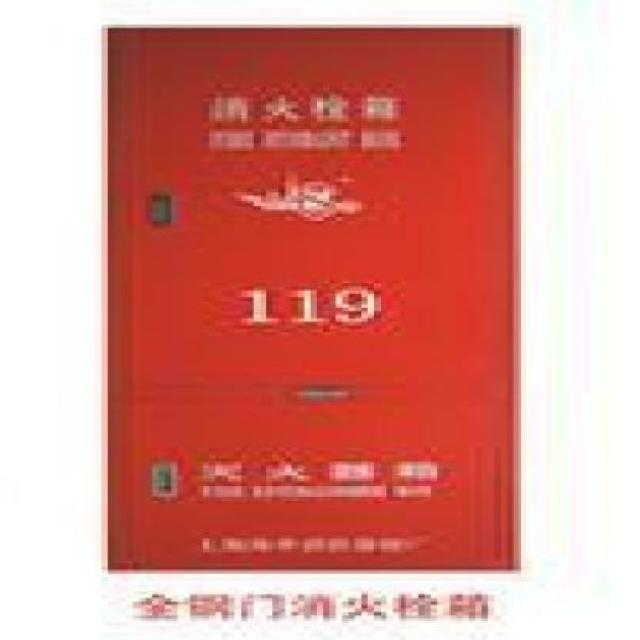firehydrant: (89, 17, 534, 584)
